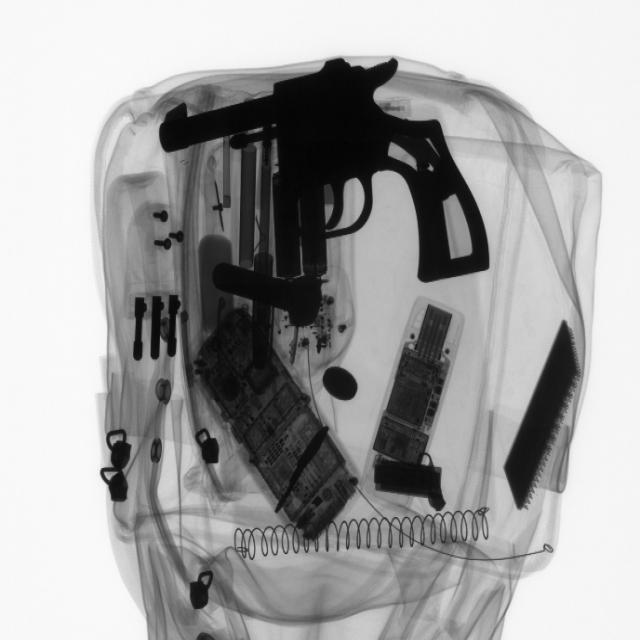GUN: (172, 51, 502, 296)
